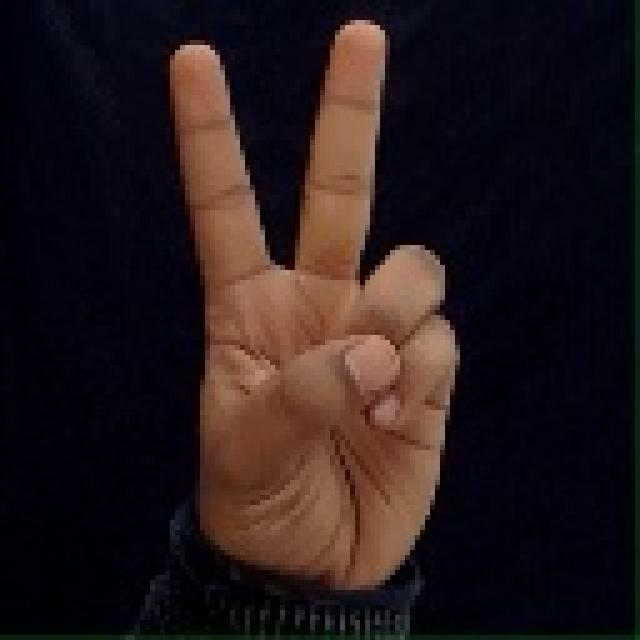No: (117, 8, 483, 590)
